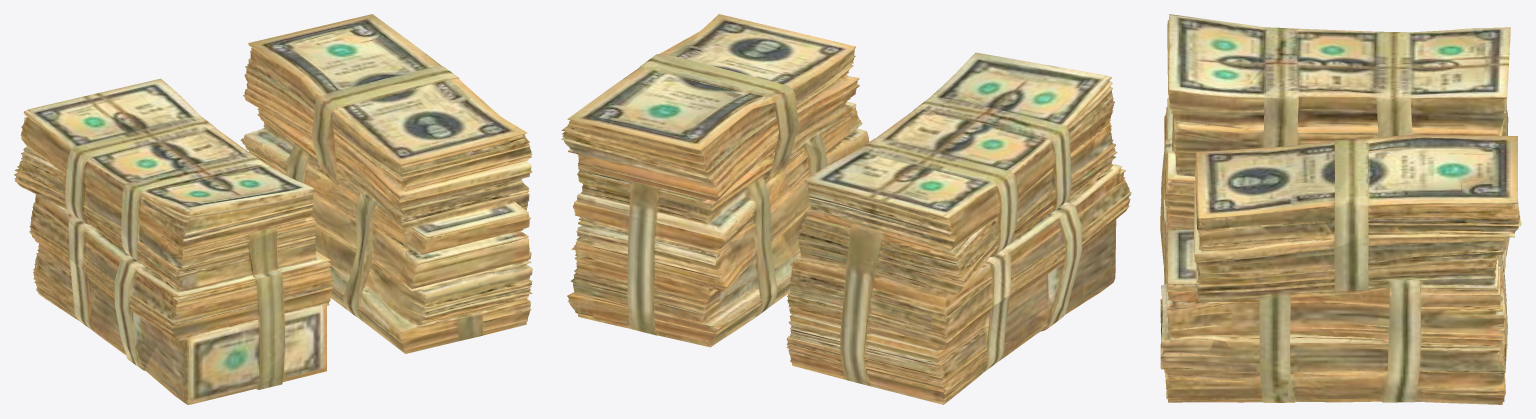
File: cash.glb
The picture shows the model from 3 angles, left to right: view 1: azimuth 30°, elevation 25°; view 2: azimuth 150°, elevation 25°; view 3: azimuth 270°, elevation 25°; orthographic projection. The views are drawn at different scales.
Size of the model in its own units: 1.9 by 0.9607 by 1.46.
Materials: 1 (1 with a texture image).
